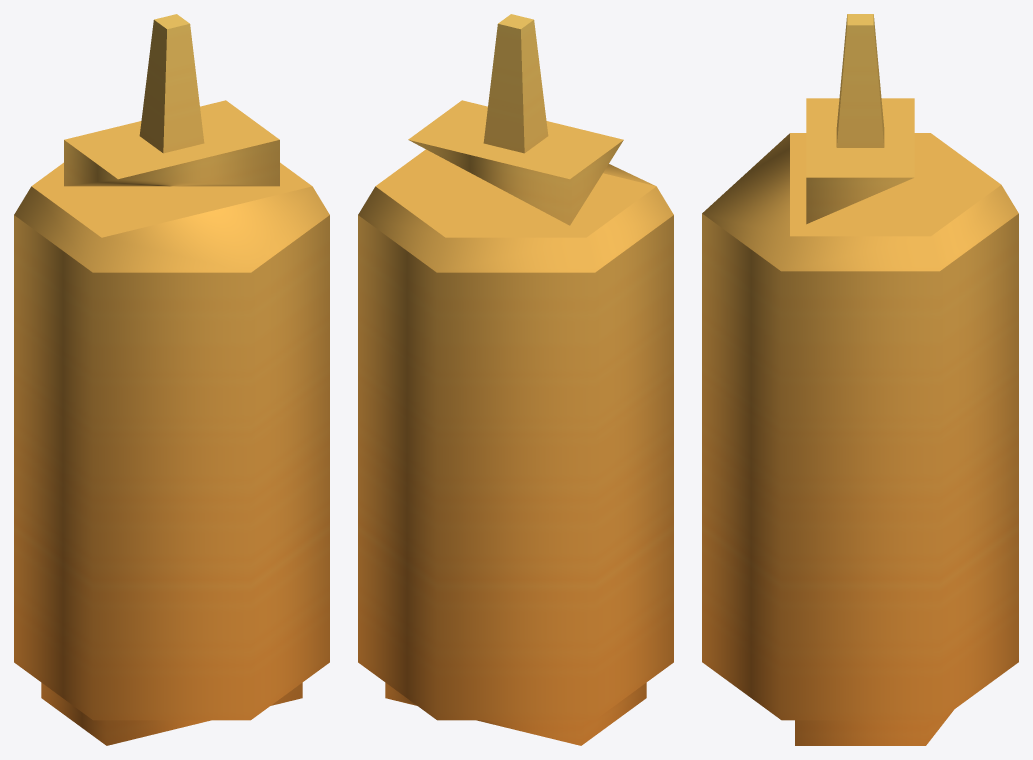
Rendered from cc0-bottle-musterd-lod1.glb.
The picture shows the model from 3 angles, left to right: view 1: azimuth 30°, elevation 25°; view 2: azimuth 150°, elevation 25°; view 3: azimuth 270°, elevation 25°; orthographic projection.
Parts seen in each view (by area): view 1: part_0; view 2: part_0; view 3: part_0.
Part boxes in pixels (<box>): part_0: <box>14,14,329,745</box>; part_0: <box>358,14,673,745</box>; part_0: <box>702,14,1018,745</box>.
Bounding box in the file's own units: 0.1441 × 0.3931 × 0.1664.
Materials: 1 (1 with a texture image).
